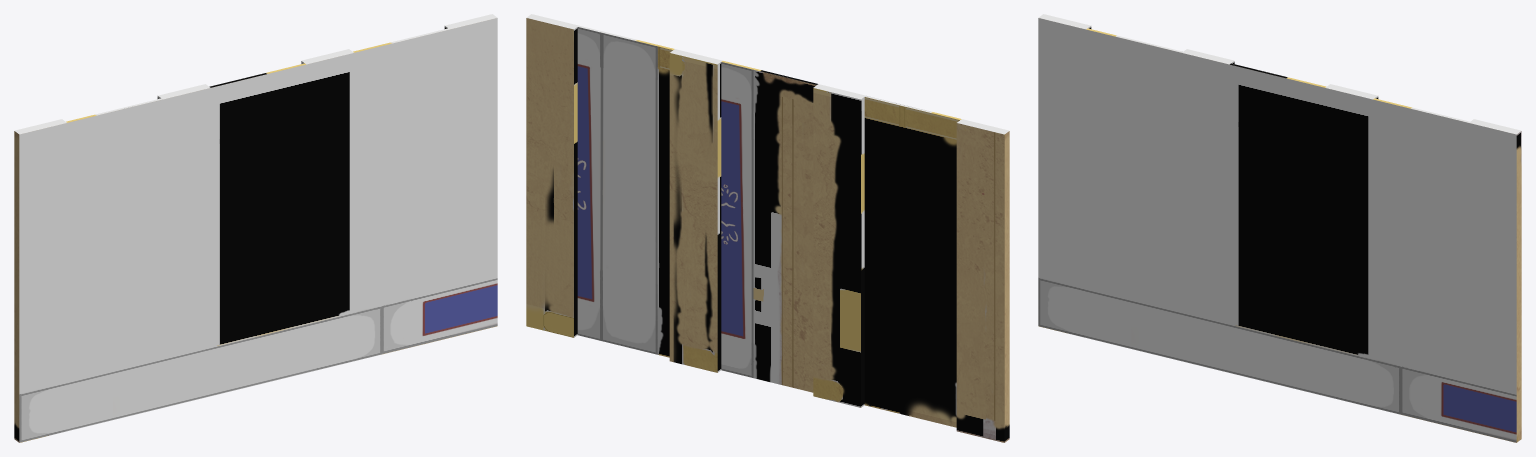
The model's file is Wall2+3-V.2.fbx.
The picture shows the model from 3 angles, left to right: view 1: azimuth 30°, elevation 25°; view 2: azimuth 150°, elevation 25°; view 3: azimuth 330°, elevation 25°; orthographic projection.
Parts seen in each view (by area): view 1: Wall2-3; view 2: Wall2-3; view 3: Wall2-3.
Part boxes in pixels (x1,y1,x2,y2): Wall2-3: (14,14,497,442); Wall2-3: (526,14,1009,442); Wall2-3: (1038,14,1521,442).
Size of the model in its own units: 3294 by 2030 by 62.79.
